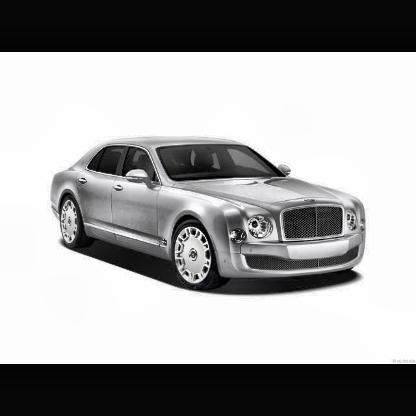Bentley Mulsanne Sedan 2011: (53, 137, 368, 287)
